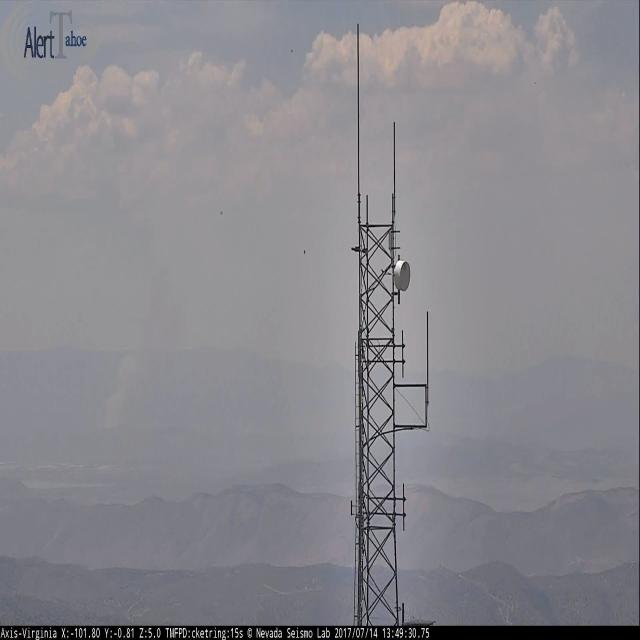smoke: (101, 351, 136, 428)
